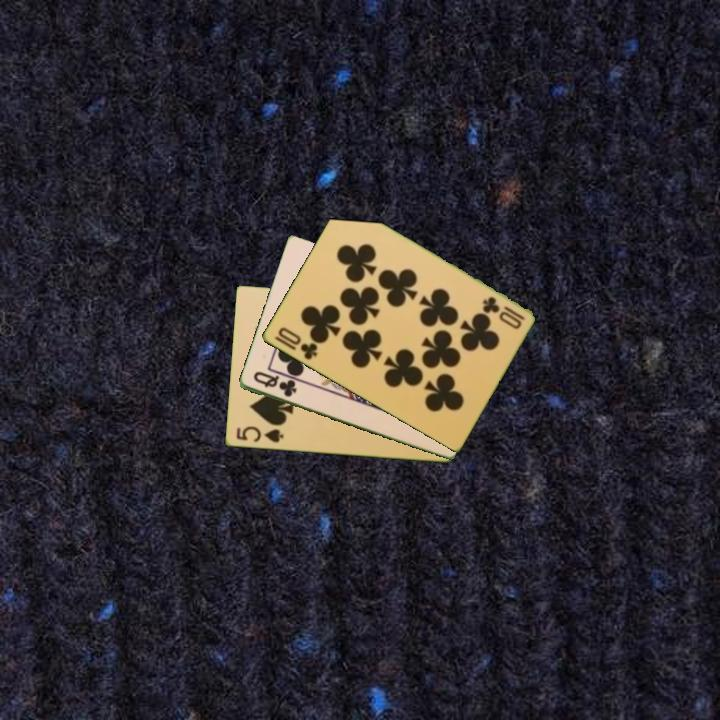10c: (271, 323, 320, 363), (478, 293, 527, 323)
5s: (232, 423, 286, 446)
Qc: (249, 368, 300, 400)
